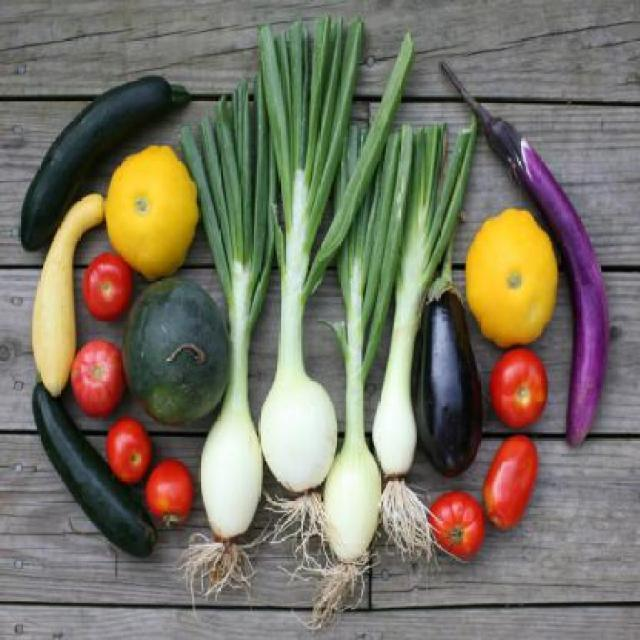Zucchini: (17, 70, 191, 250), (44, 399, 138, 550)
